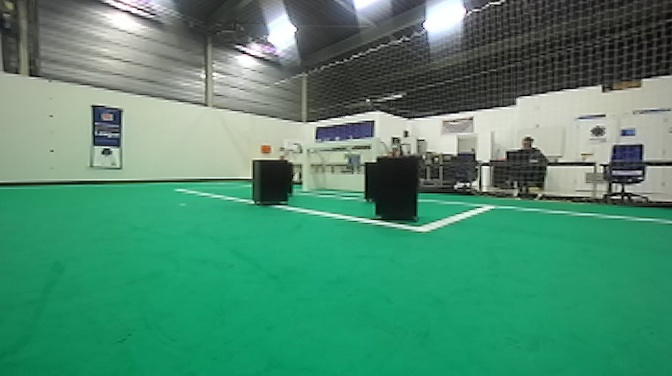goalpost: (301, 143, 313, 193), (361, 138, 379, 159)
